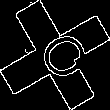O_SW: (22, 24, 88, 86)
